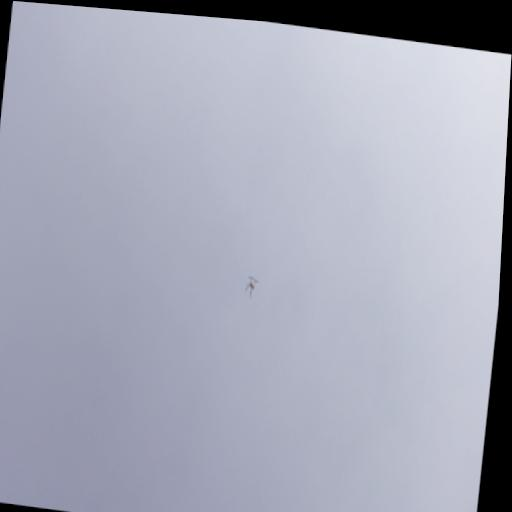drones: (244, 275, 260, 300)
